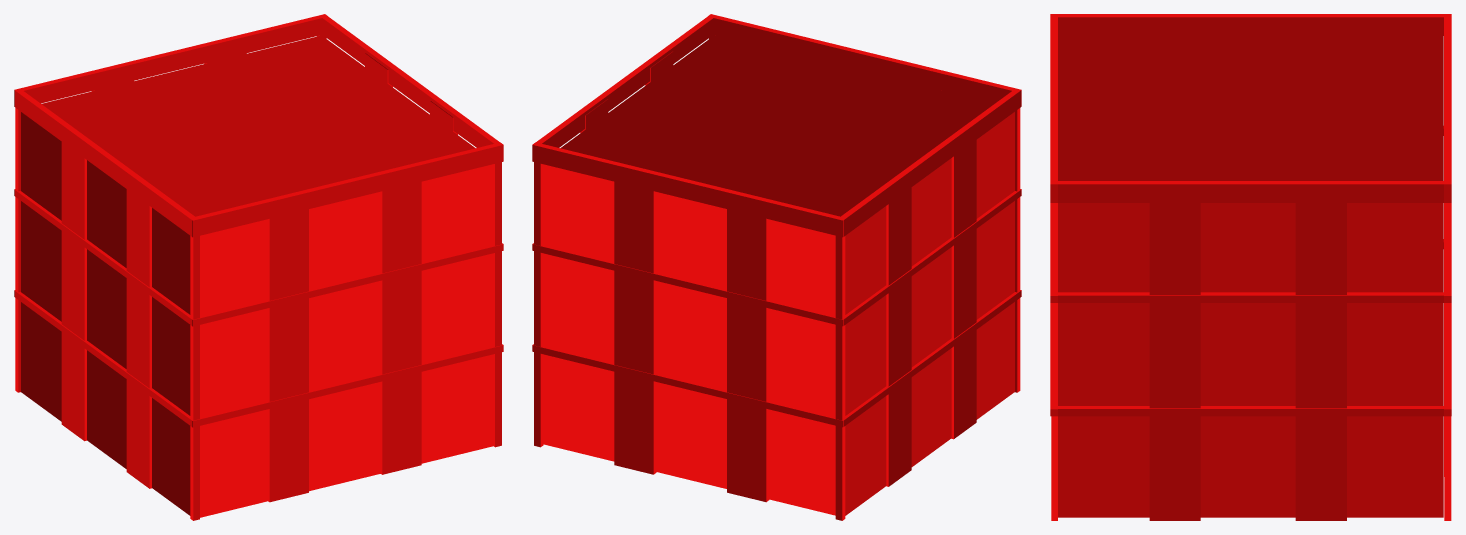
The model's file is SmallBuilding_M_V1_Raghu.fbx.
3 renders of one model, left to right at view 1: azimuth 30°, elevation 25°; view 2: azimuth 150°, elevation 25°; view 3: azimuth 270°, elevation 25°, orthographic. The views are drawn at different scales.
Visible parts, largest first — view 1: smallBuilding_M_v2_raghu_low; view 2: smallBuilding_M_v2_raghu_low; view 3: smallBuilding_M_v2_raghu_low.
Part boxes in pixels (x1,y1,x2,y2): smallBuilding_M_v2_raghu_low: [14, 14, 503, 520]; smallBuilding_M_v2_raghu_low: [532, 14, 1021, 520]; smallBuilding_M_v2_raghu_low: [1050, 14, 1451, 520].
Size of the model in its own units: 1034 by 956 by 1029.
